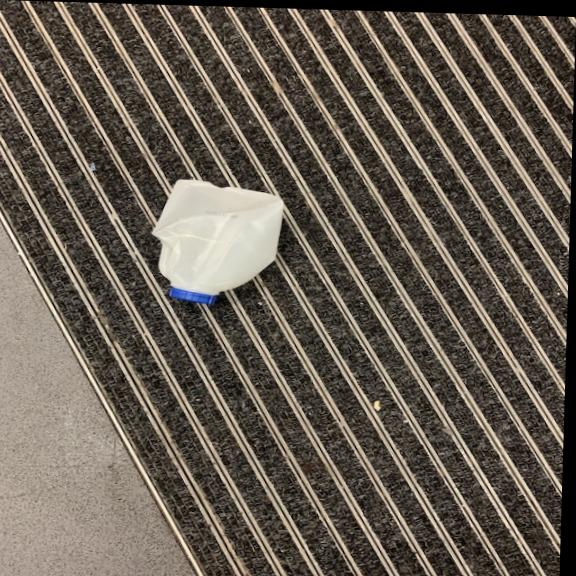Plastik: (150, 177, 287, 314)
